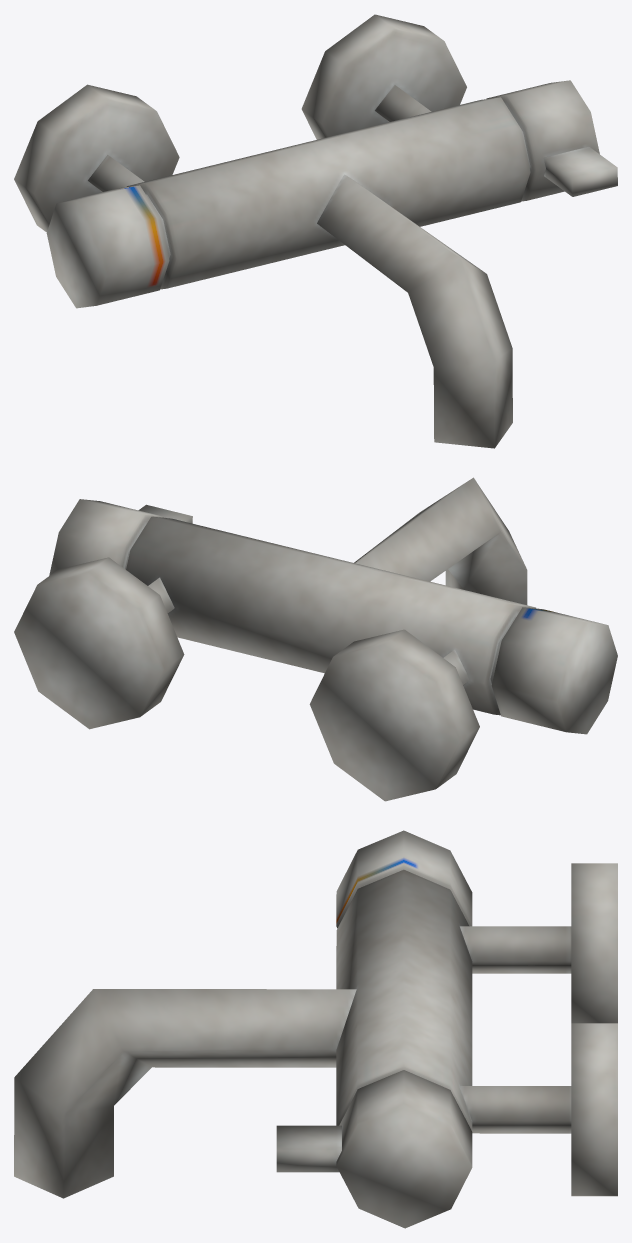
The model's file is sb_obj_ModernCity078_faucet.fbx.
3 views of the same model, one above another, from view 1: azimuth 30°, elevation 25°; view 2: azimuth 150°, elevation 25°; view 3: azimuth 270°, elevation 25° (orthographic). The views are drawn at different scales.
Parts seen in each view (by area): view 1: sb_obj_ModernCity078_faucet_low; view 2: sb_obj_ModernCity078_faucet_low; view 3: sb_obj_ModernCity078_faucet_low.
Part boxes in pixels (x1=…): sb_obj_ModernCity078_faucet_low: x1=14, y1=14, x2=617, y2=448; sb_obj_ModernCity078_faucet_low: x1=14, y1=477, x2=617, y2=801; sb_obj_ModernCity078_faucet_low: x1=14, y1=830, x2=617, y2=1228.
Size of the model in its own units: 0.2915 by 0.1156 by 0.2707.
1 material, 1 textured.
